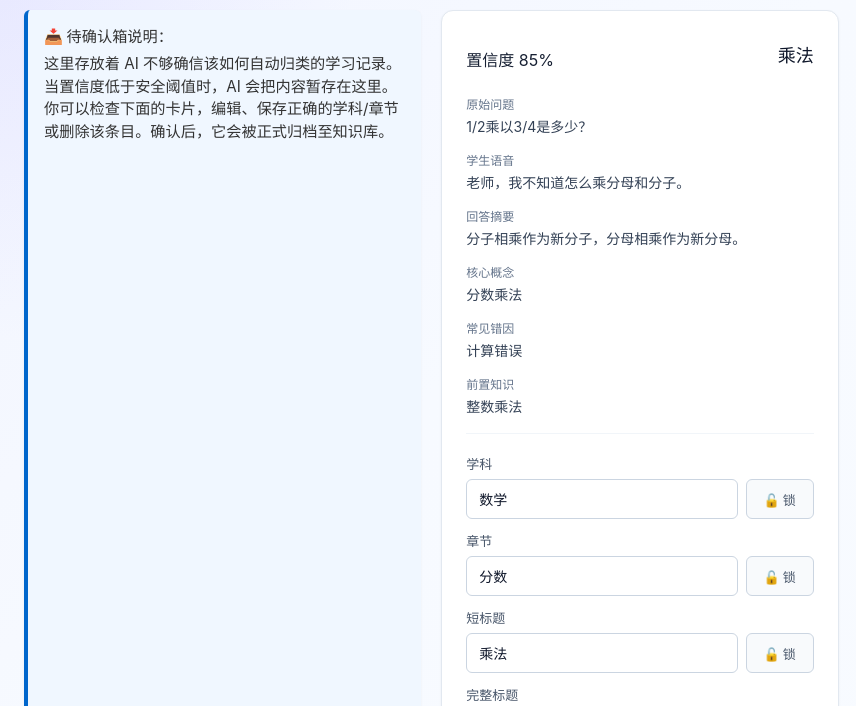
Test: locked fields are not overwritten by a rerun response
# Edit and Lock subject (change to "物理")
Replace the text in the field labelled "学科" with "物理": (602, 499) top-left (466, 479), bottom-right (738, 519)
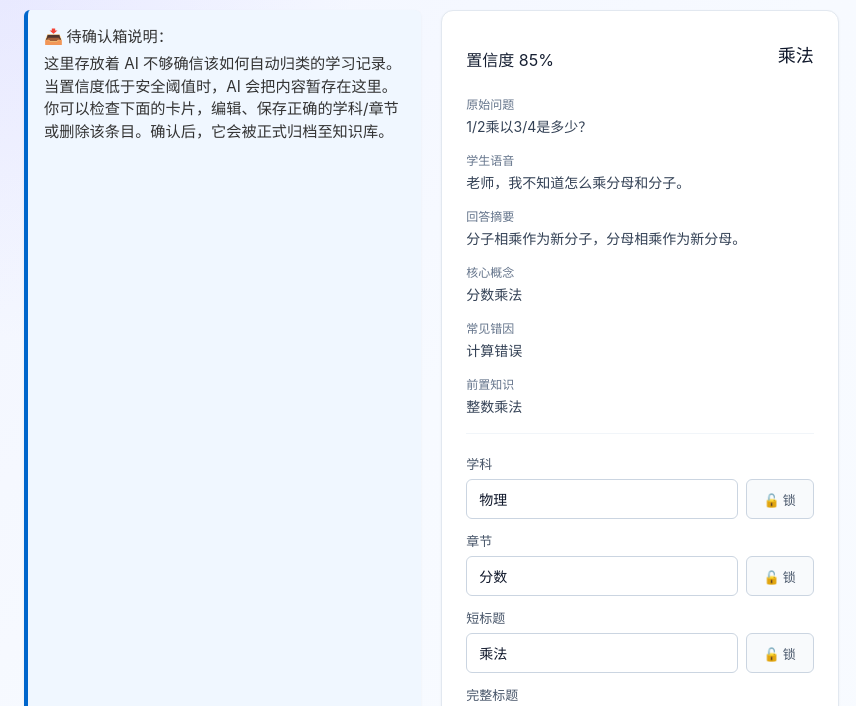
# Find the subject lock button (the first one)
Click the 1st button "🔓 锁": (780, 499) top-left (746, 479), bottom-right (814, 519)
(page scrolled)
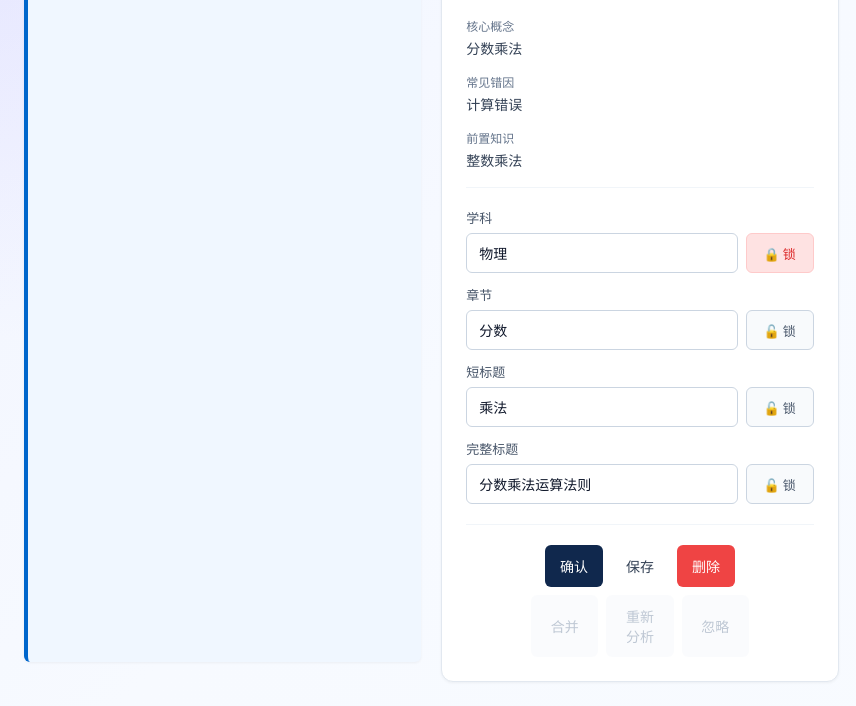
# Click Save/Rerun
Click the button "保存": (640, 566) top-left (611, 545), bottom-right (669, 587)
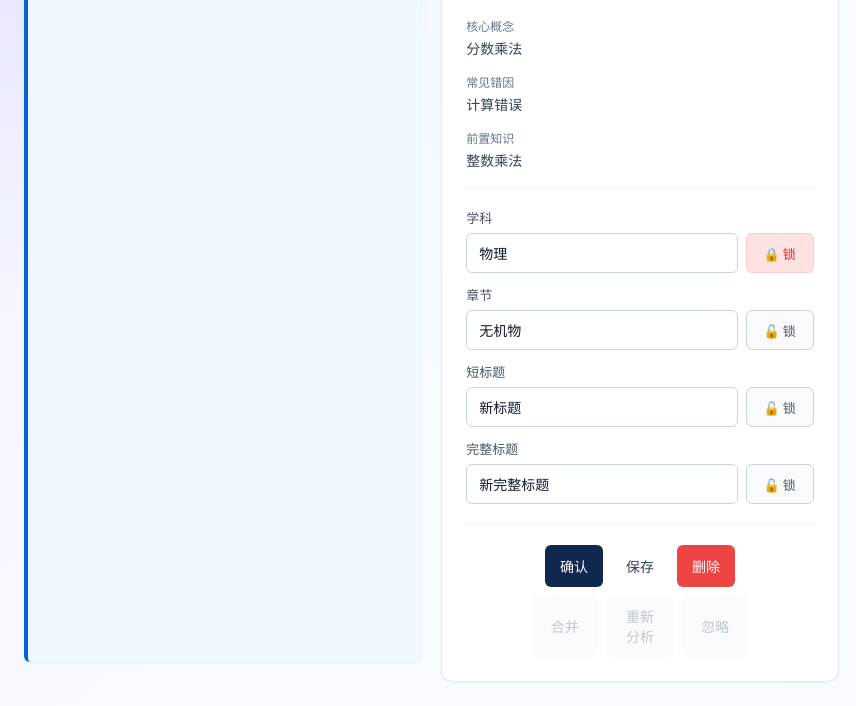
Expected: the field labelled "短标题" holds "新标题", top-left (466, 387), bottom-right (738, 427)
